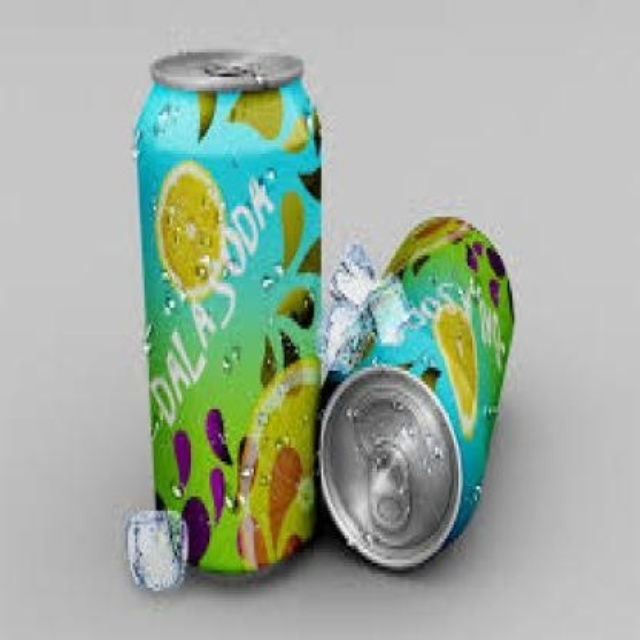trash: (135, 51, 320, 571), (318, 217, 512, 568)
